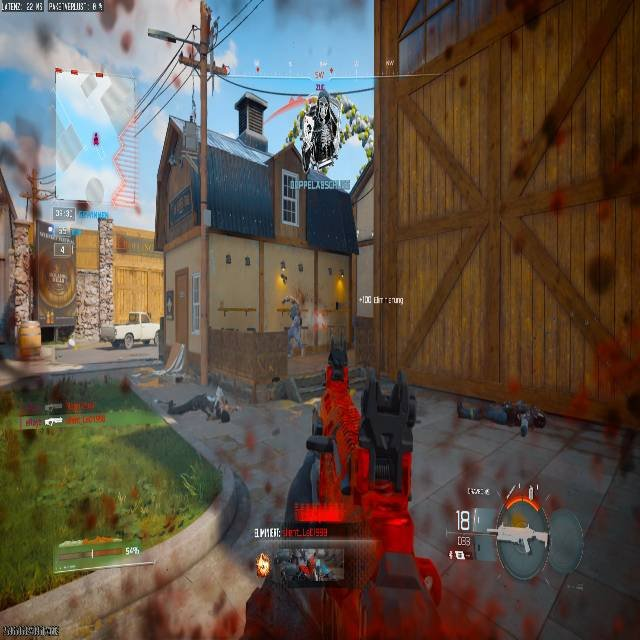head: (533, 413, 546, 428)
player: (282, 296, 303, 357), (256, 553, 269, 577)
